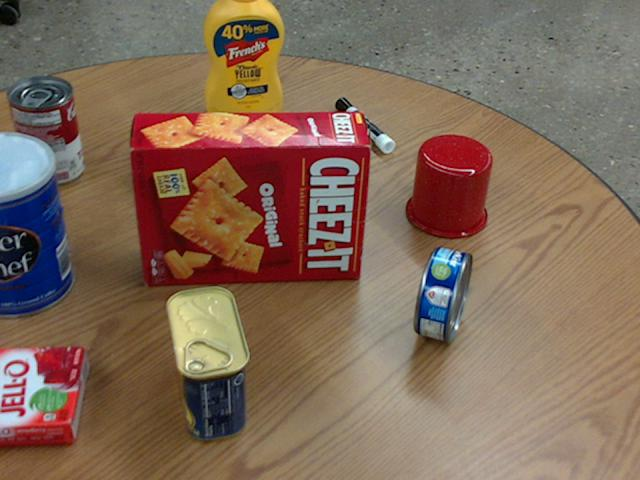cracker_box: (132, 111, 369, 283)
gelatin_box: (0, 345, 86, 445)
large_marker: (336, 97, 394, 152)
master_chef_can: (0, 133, 73, 317)
mug: (404, 134, 491, 237)
mustard_bottle: (203, 0, 283, 120)
potted_meat_can: (164, 285, 246, 439)
sugar_box: (141, 118, 300, 191)
tomato_soup_can: (8, 75, 83, 184)
tuna_fish_can: (415, 246, 470, 341)
